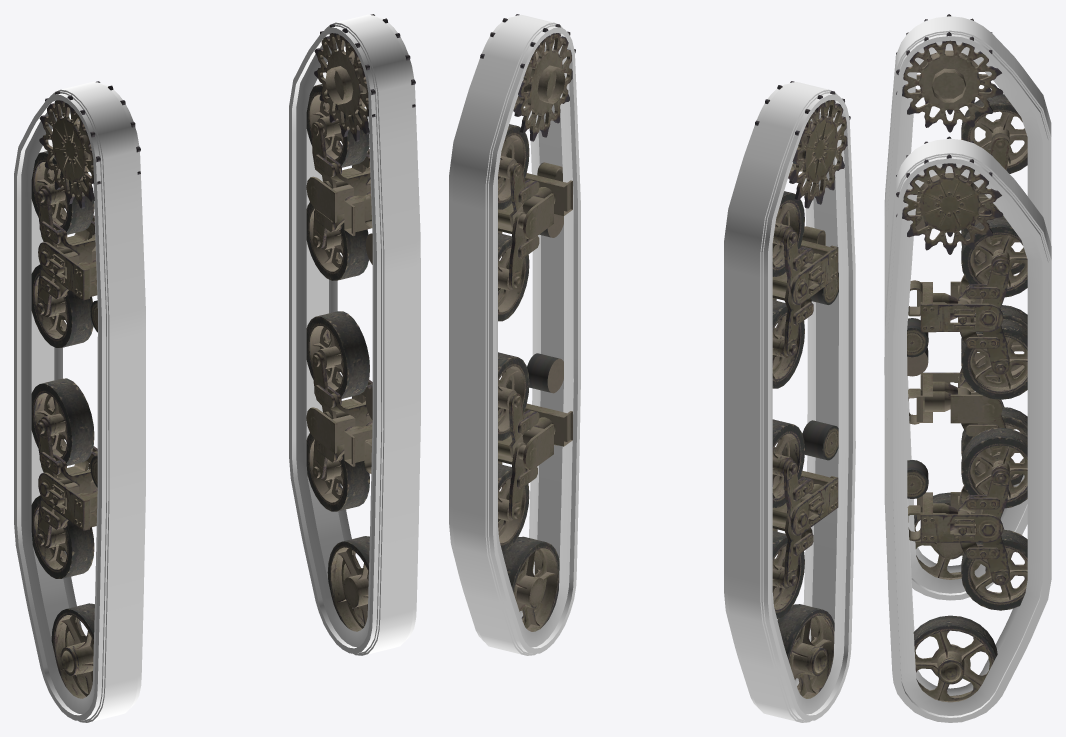
File: Chassis.glb
The picture shows the model from 3 angles, left to right: view 1: azimuth 30°, elevation 25°; view 2: azimuth 150°, elevation 25°; view 3: azimuth 270°, elevation 25°; orthographic projection. The views are drawn at different scales.
Visible parts, largest first — view 1: set_3_group_0, set_2_group_0, set_0_group_0, set_1_group_0; view 2: set_3_group_0, set_2_group_0, set_0_group_0, set_1_group_0; view 3: set_0_group_0, set_2_group_0, set_1_group_0, set_3_group_0.
Part boxes in pixels (<box>): set_3_group_0: <box>14,81,145,722</box>; set_2_group_0: <box>289,14,420,655</box>; set_0_group_0: <box>306,14,415,631</box>; set_1_group_0: <box>31,81,140,698</box>; set_3_group_0: <box>724,82,855,722</box>; set_2_group_0: <box>449,14,580,655</box>; set_0_group_0: <box>480,14,575,631</box>; set_1_group_0: <box>755,81,850,698</box>; set_0_group_0: <box>896,136,1027,702</box>; set_2_group_0: <box>884,138,1051,722</box>; set_1_group_0: <box>896,14,1027,579</box>; set_3_group_0: <box>884,16,1051,600</box>.
Bounding box in the file's own units: 2.23 × 4.02 × 1.07.
4 materials, 2 textured.
